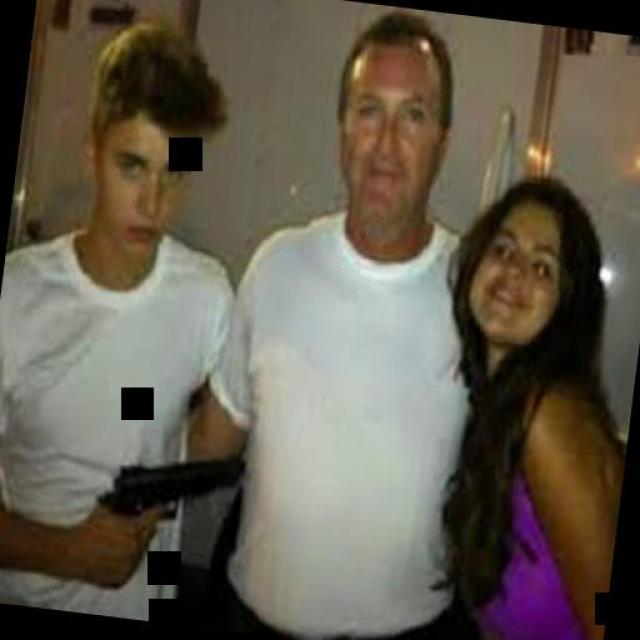gun: (79, 430, 252, 591)
